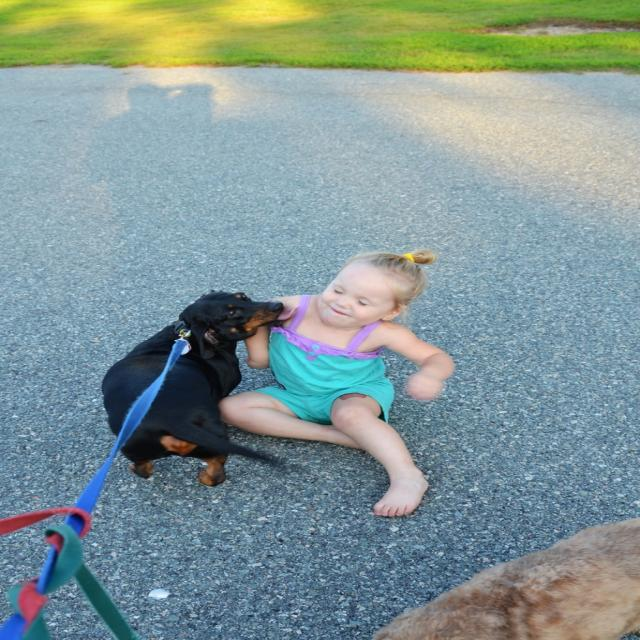Dog: (102, 288, 296, 490)
